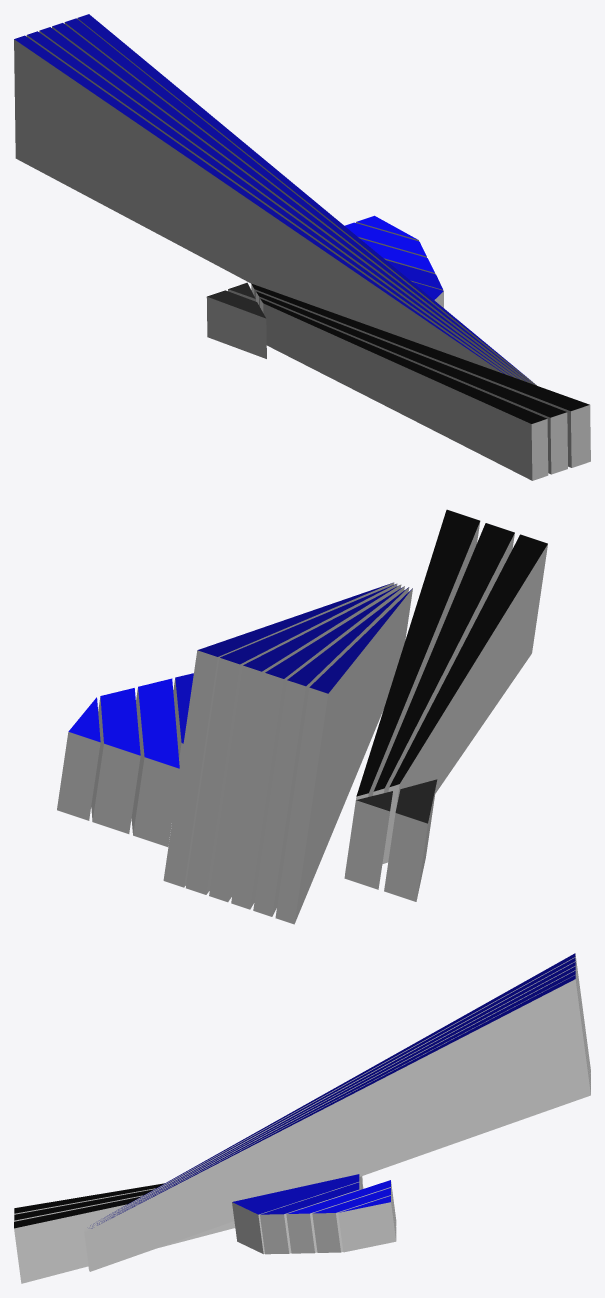
File: 3DFu_3D.dae
3 views of the same model, one above another, from view 1: azimuth 30°, elevation 25°; view 2: azimuth 150°, elevation 25°; view 3: azimuth 270°, elevation 25° (orthographic). The views are drawn at different scales.
Parts seen in each view (by area): view 1: Model; view 2: Model; view 3: Model.
Boxes of the visible parts, <box> form: Model: <box>14,14,590,480</box>; Model: <box>57,509,547,924</box>; Model: <box>14,953,590,1283</box>.
Bounding box in the file's own units: 3.23 × 6.79 × 3.
